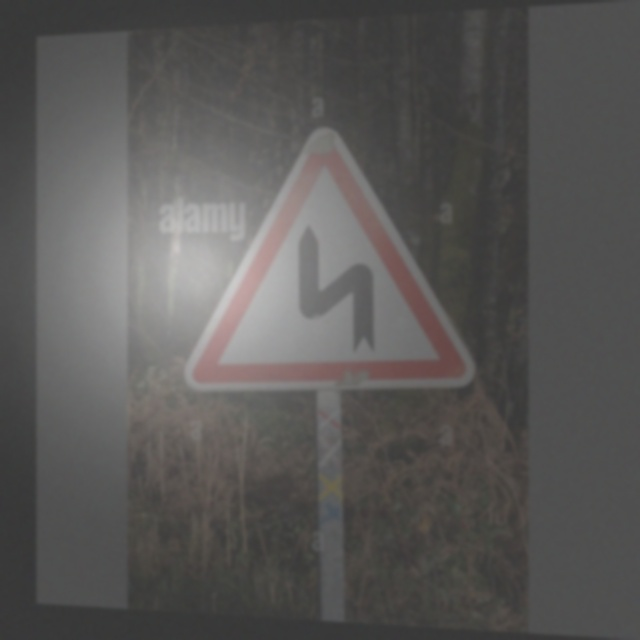Left_Reverse_Bend: (184, 123, 483, 398)
